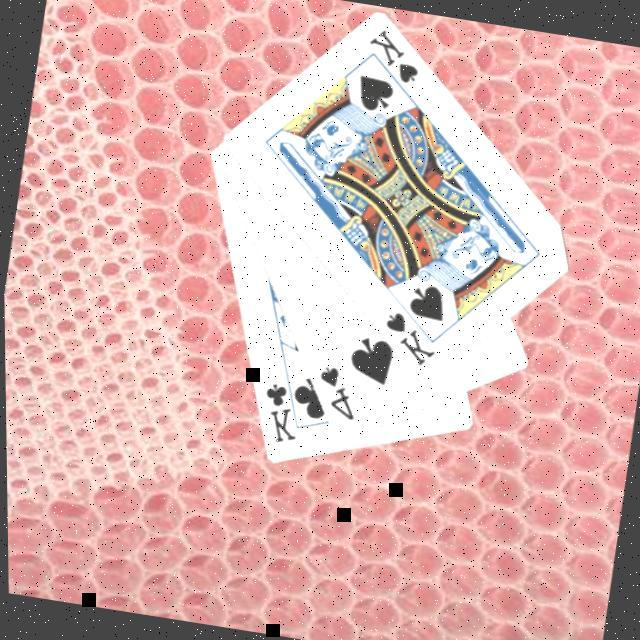4S: (310, 363, 366, 426)
KC: (255, 370, 312, 450)
KS: (358, 26, 429, 102), (376, 308, 444, 374)
